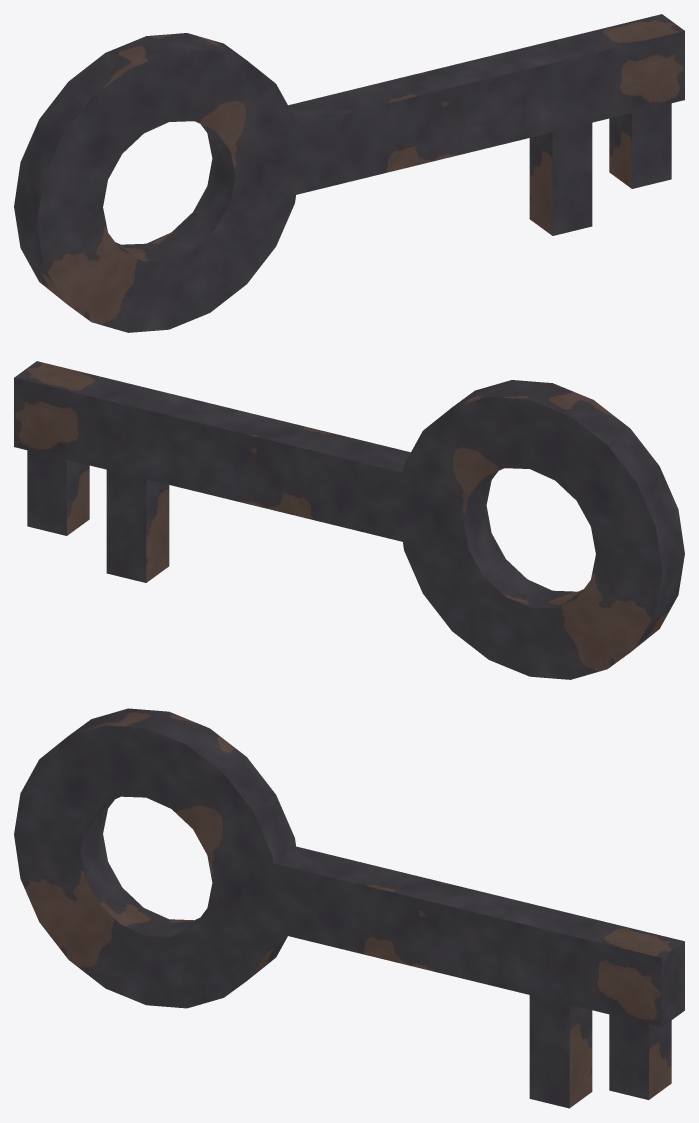
The model's file is dun_key_iron_glow.glb.
The picture shows the model from 3 angles, top to bottom: view 1: azimuth 30°, elevation 25°; view 2: azimuth 150°, elevation 25°; view 3: azimuth 330°, elevation 25°; orthographic projection.
Visible parts, largest first — view 1: dun_key_iron_iron_0; view 2: dun_key_iron_iron_0; view 3: dun_key_iron_iron_0.
Boxes of the visible parts, x1,y1,x2,y2 form: dun_key_iron_iron_0: (14,14,684,332); dun_key_iron_iron_0: (14,361,684,679); dun_key_iron_iron_0: (14,708,684,1108).
Bounding box in the file's own units: 0.49 × 0.2 × 0.03.
Materials: 1 (1 with a texture image).
